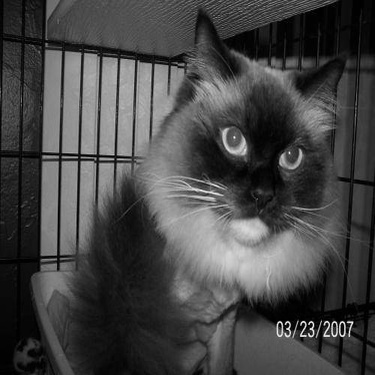cat: (62, 9, 339, 368)
